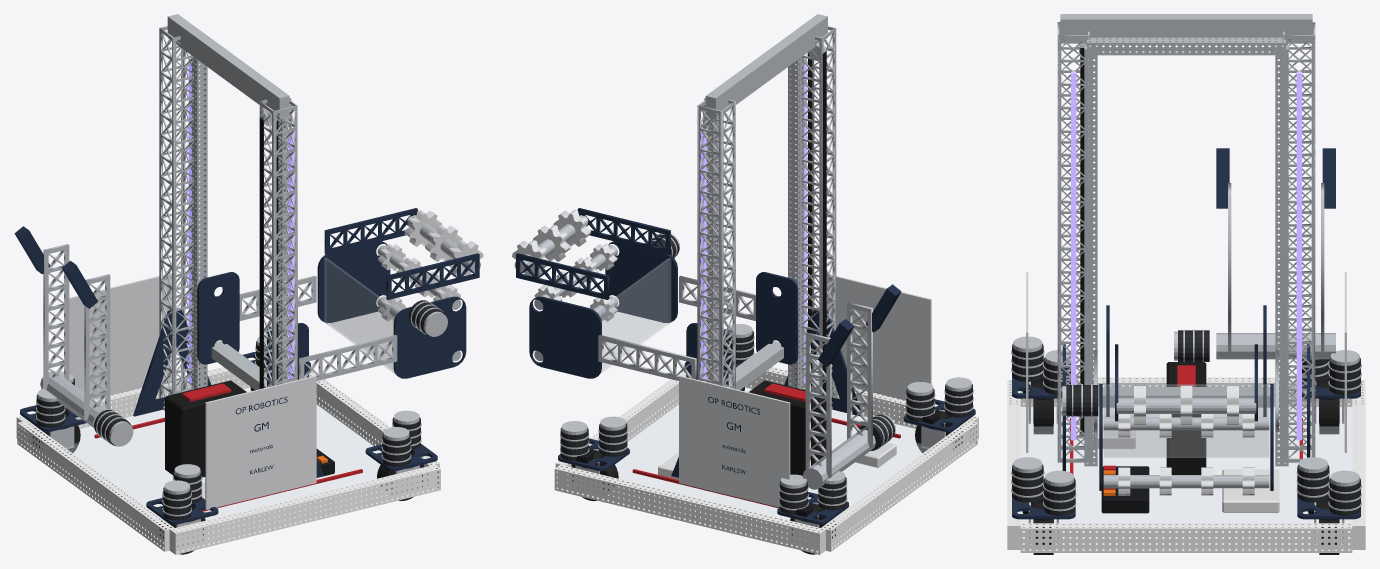
The picture shows the model from 3 angles, left to right: view 1: azimuth 30°, elevation 25°; view 2: azimuth 150°, elevation 25°; view 3: azimuth 270°, elevation 25°; orthographic projection. The views are drawn at different scales.
Visible parts, largest first — view 1: body.silver, body.white, body.black_tube, eff.navy_anodized, body.polycarb, stage.aluminum_tube, climber.silver, body.navy_anodized, eff.polycarb, car.navy_anodized, eff.white_wheel, body.kraken (+13 smaller); view 2: body.silver, body.white, body.black_tube, eff.navy_anodized, body.polycarb, stage.aluminum_tube, climber.silver, body.kraken, eff.polycarb, car.navy_anodized, body.kraken_cap, body.navy_anodized (+13 smaller); view 3: body.silver, body.polycarb, body.black_tube, stage.aluminum_tube, body.kraken, eff.polycarb, body.kraken_cap, eff.aluminum, eff.white_wheel, body.led_violet, body.navy_anodized, body.battery (+15 smaller).
Boxes of the visible parts, x1=… form: body.silver: x1=159, y1=14, x2=297, y2=410; body.white: x1=69, y1=273, x2=316, y2=509; body.black_tube: x1=16, y1=359, x2=440, y2=554; eff.navy_anodized: x1=317, y1=208, x2=479, y2=378; body.polycarb: x1=27, y1=385, x2=433, y2=551; stage.aluminum_tube: x1=191, y1=57, x2=292, y2=389; climber.silver: x1=43, y1=244, x2=110, y2=419; body.navy_anodized: x1=20, y1=310, x2=437, y2=545; eff.polycarb: x1=324, y1=258, x2=399, y2=374; car.navy_anodized: x1=197, y1=272, x2=308, y2=386; eff.white_wheel: x1=378, y1=209, x2=483, y2=321; body.kraken: x1=36, y1=329, x2=420, y2=520; body.silver: x1=697, y1=14, x2=836, y2=409; body.white: x1=679, y1=274, x2=931, y2=507; body.black_tube: x1=554, y1=367, x2=978, y2=554; eff.navy_anodized: x1=516, y1=208, x2=677, y2=378; body.polycarb: x1=572, y1=385, x2=967, y2=546; stage.aluminum_tube: x1=703, y1=57, x2=803, y2=389; climber.silver: x1=805, y1=302, x2=872, y2=477; body.kraken: x1=560, y1=330, x2=972, y2=514; eff.polycarb: x1=596, y1=258, x2=670, y2=373; car.navy_anodized: x1=686, y1=272, x2=798, y2=386; body.kraken_cap: x1=560, y1=324, x2=973, y2=510; body.navy_anodized: x1=558, y1=310, x2=975, y2=545; body.silver: x1=1057, y1=14, x2=1315, y2=462; body.polycarb: x1=1016, y1=403, x2=1356, y2=549; body.black_tube: x1=1007, y1=377, x2=1365, y2=552; stage.aluminum_tube: x1=1084, y1=37, x2=1288, y2=466; body.kraken: x1=1012, y1=330, x2=1360, y2=515; eff.polycarb: x1=1104, y1=384, x2=1268, y2=457; body.kraken_cap: x1=1011, y1=329, x2=1361, y2=511; eff.aluminum: x1=1103, y1=398, x2=1269, y2=488; eff.white_wheel: x1=1118, y1=385, x2=1254, y2=495; body.led_violet: x1=1071, y1=71, x2=1301, y2=440; body.navy_anodized: x1=1012, y1=344, x2=1360, y2=522; body.battery: x1=1166, y1=362, x2=1206, y2=474.
Bounding box in the file's own units: 0.9453 × 1 × 0.6858.
Materials: 18 (2 with a texture image).
